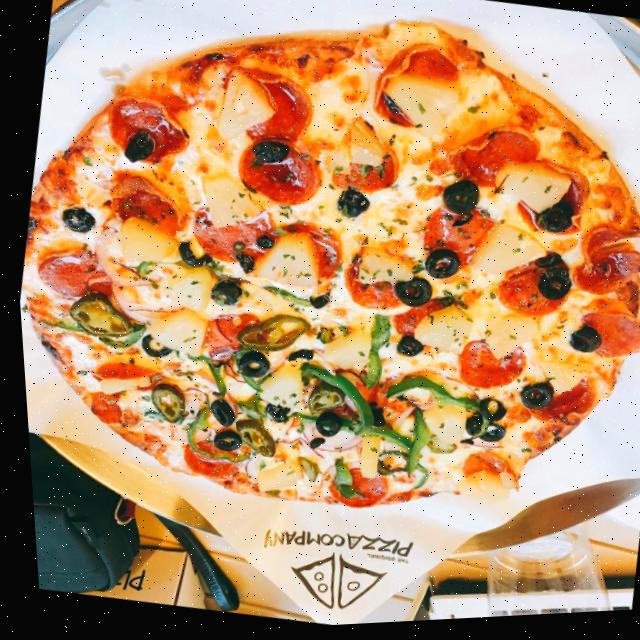black_olives: (521, 253, 572, 315), (451, 396, 504, 454), (433, 177, 482, 225), (165, 234, 217, 277), (384, 276, 433, 316), (325, 184, 369, 228), (530, 200, 572, 244), (556, 324, 601, 365), (415, 246, 458, 288), (199, 275, 246, 313), (243, 137, 294, 172), (227, 346, 270, 387), (511, 382, 550, 422), (118, 128, 156, 169), (383, 334, 425, 368), (200, 395, 238, 432), (274, 343, 316, 373), (55, 204, 93, 237), (304, 409, 339, 444), (201, 426, 237, 457), (254, 398, 287, 431), (359, 403, 388, 436), (133, 333, 166, 362), (299, 291, 331, 320), (372, 92, 404, 121), (248, 234, 276, 257), (232, 249, 253, 279), (301, 434, 321, 456)
pepperoni: (360, 32, 472, 141), (92, 82, 202, 177), (432, 117, 544, 204), (223, 60, 321, 159), (92, 165, 195, 258), (176, 196, 282, 280), (226, 130, 326, 216), (560, 214, 640, 315), (253, 211, 343, 300), (330, 242, 419, 330), (75, 353, 164, 437), (409, 199, 493, 287), (26, 236, 121, 312), (486, 255, 572, 332), (319, 136, 406, 212), (440, 331, 526, 403), (566, 302, 640, 373), (515, 371, 590, 440), (380, 291, 451, 359), (310, 457, 388, 516), (171, 431, 238, 487), (192, 304, 256, 362), (448, 448, 515, 497)
pizza: (0, 0, 640, 571)
